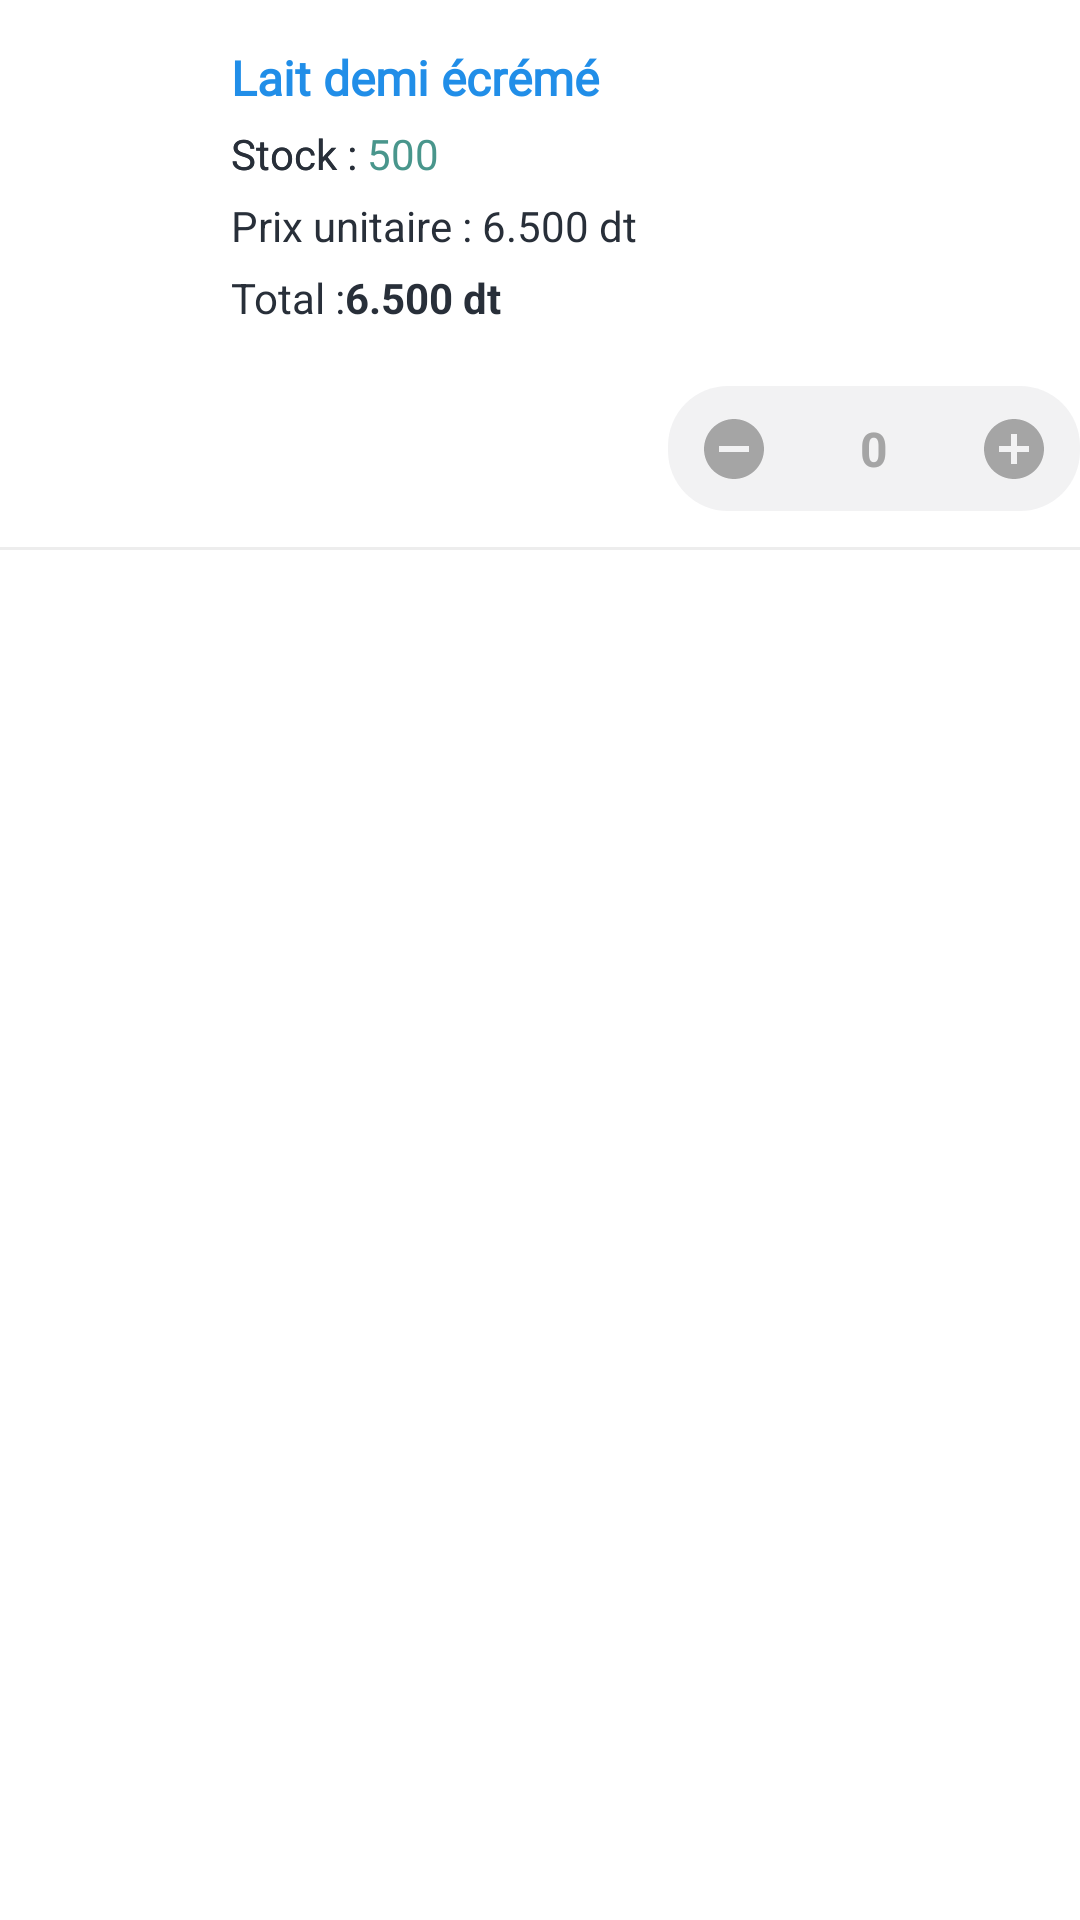

Icons on this 1080 × 1920 Android screen, each with its box as {"left": x1, "top": y1, "right": x2, "bottom": y2}:
add circle: {"left": 984, "top": 419, "right": 1044, "bottom": 479}
remove circle: {"left": 704, "top": 419, "right": 764, "bottom": 479}
